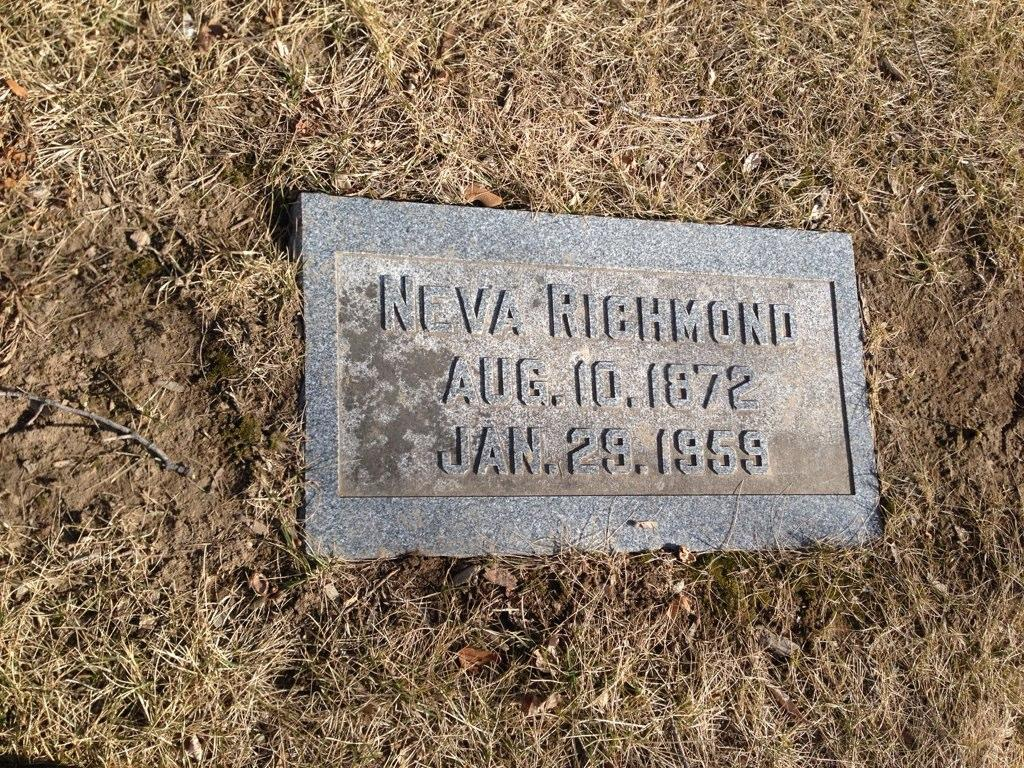flat: (278, 173, 888, 571)
